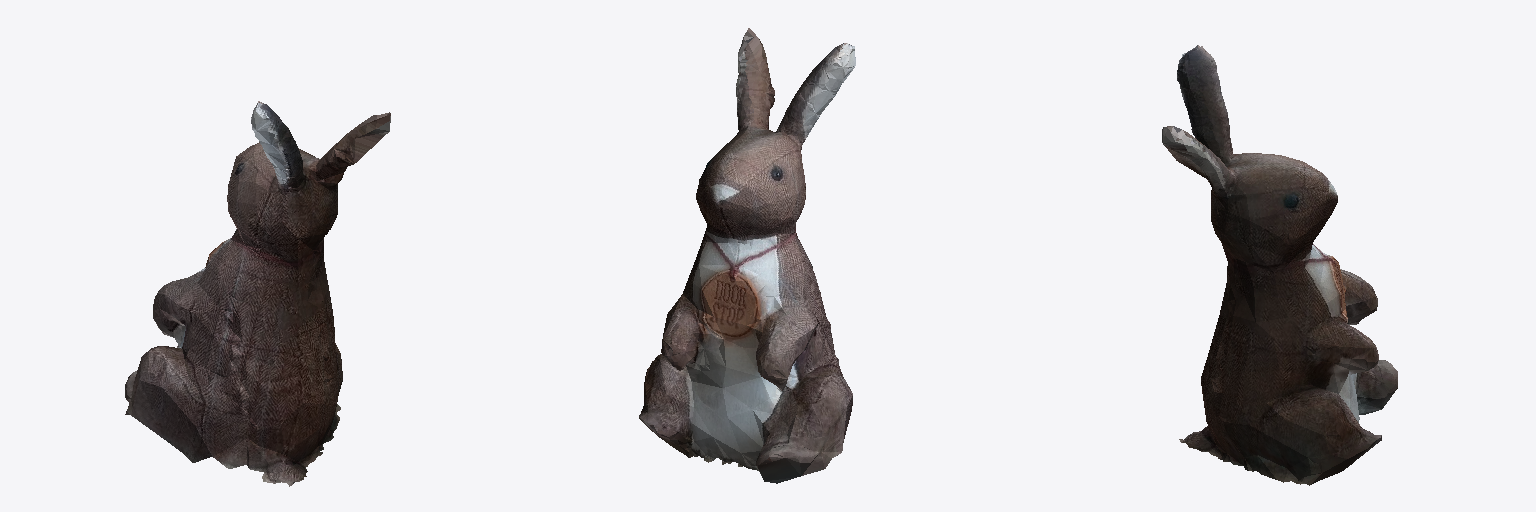
3 renders of one model, left to right at view 1: azimuth 30°, elevation 25°; view 2: azimuth 150°, elevation 25°; view 3: azimuth 270°, elevation 25°, orthographic.
Bounding box in the file's own units: 0.1742 × 0.3237 × 0.1807.
Materials: 1 (1 with a texture image).